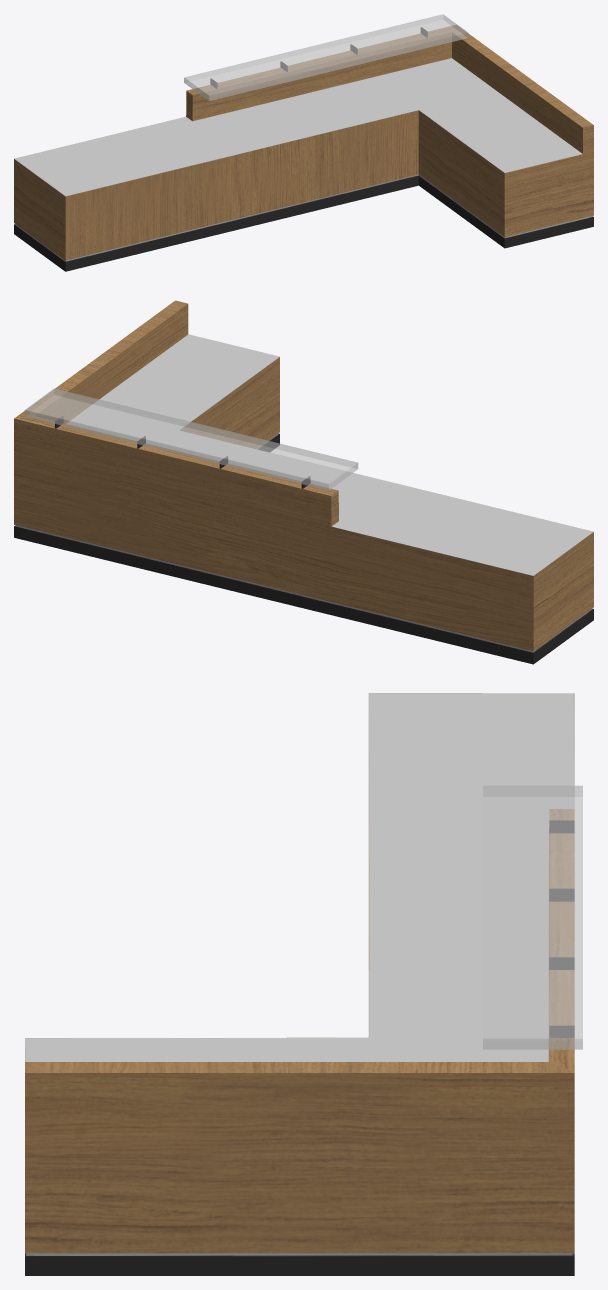
Rendered from Reception.fbx.
3 renders of one model, top to bottom at view 1: azimuth 30°, elevation 25°; view 2: azimuth 150°, elevation 25°; view 3: azimuth 270°, elevation 25°, orthographic. The views are drawn at different scales.
Visible parts, largest first — view 1: Reception; view 2: Reception; view 3: Reception.
Boxes of the visible parts, box(x1,y1,x2,y2) form: Reception: box(14, 14, 593, 271); Reception: box(14, 300, 593, 664); Reception: box(25, 693, 582, 1275).
Size of the model in its own units: 452 by 110 by 247.
